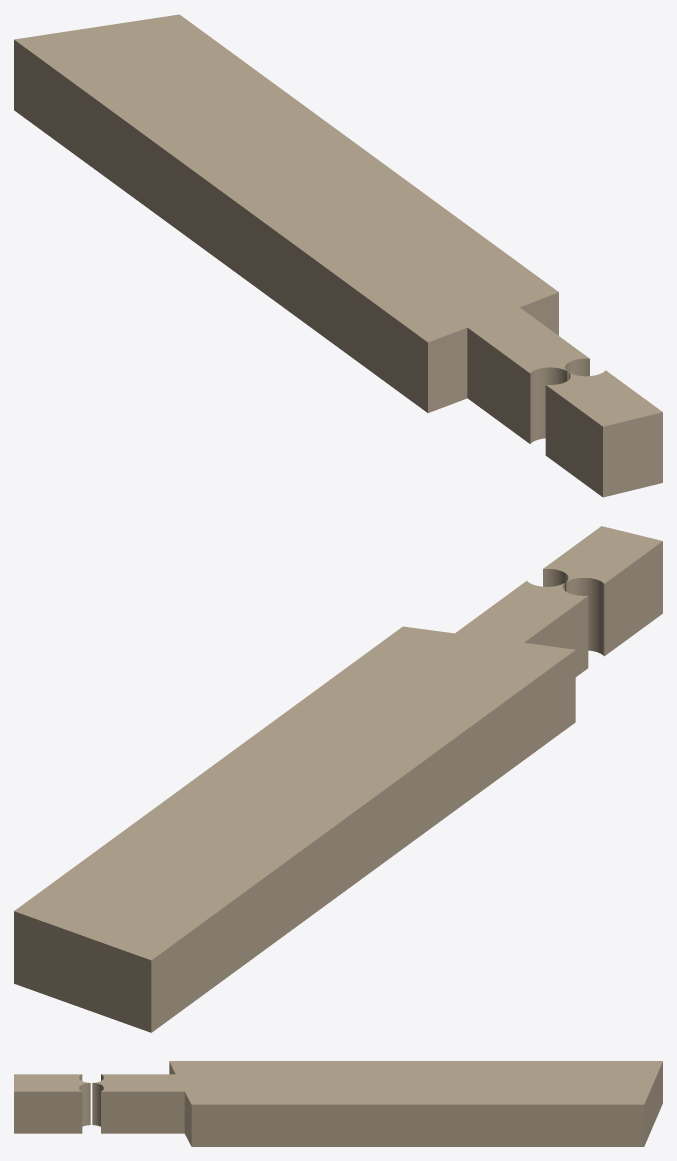
File: T-HW-AFTA.glb
3 renders of one model, top to bottom at view 1: azimuth 30°, elevation 25°; view 2: azimuth 150°, elevation 25°; view 3: azimuth 270°, elevation 25°, orthographic. The views are drawn at different scales.
Parts seen in each view (by area): view 1: geometry_0; view 2: geometry_0; view 3: geometry_0.
Part boxes in pixels (x1,y1,x2,y2): geometry_0: (14,14,662,497); geometry_0: (14,526,662,1032); geometry_0: (14,1061,662,1146).
Bounding box in the file's own units: 26.6 × 12 × 167.
